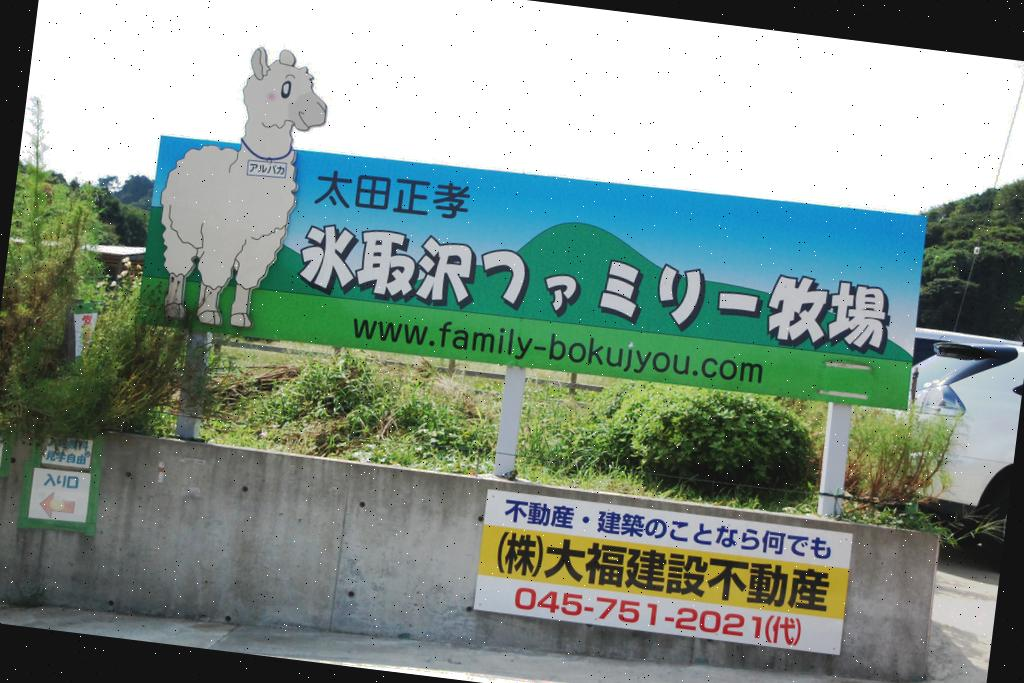Sheep: (146, 37, 332, 337)
